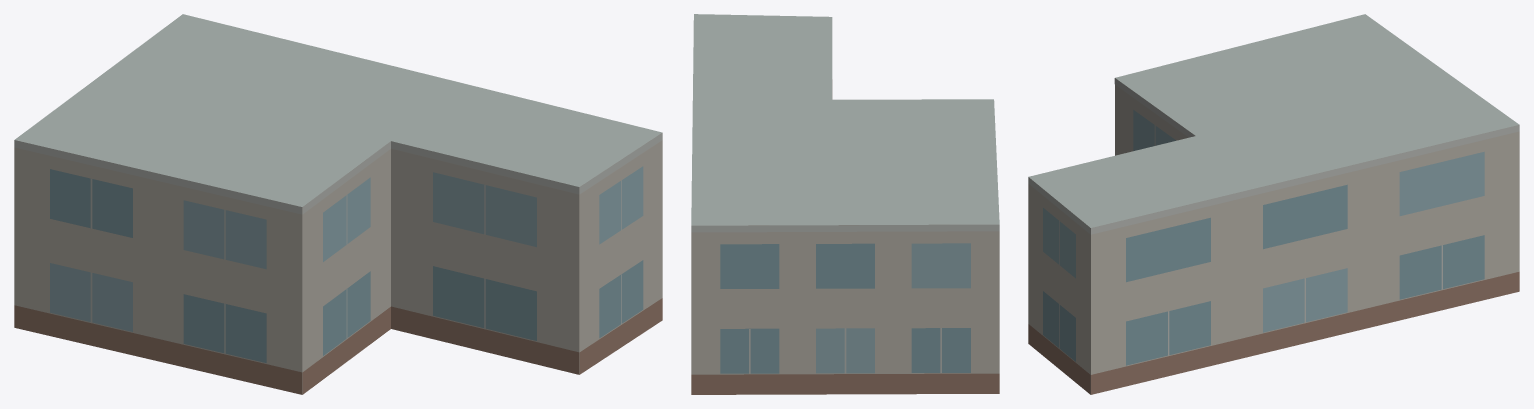
File: survey-upis-32763060.glb
3 views of the same model, side by side, from view 1: azimuth 30°, elevation 25°; view 2: azimuth 150°, elevation 25°; view 3: azimuth 270°, elevation 25° (orthographic). The views are drawn at different scales.
Parts seen in each view (by area): view 1: survey-upis-32763060.tmp; view 2: survey-upis-32763060.tmp; view 3: survey-upis-32763060.tmp.
Part boxes in pixels (x1,y1,x2,y2): survey-upis-32763060.tmp: (14, 14, 662, 394); survey-upis-32763060.tmp: (691, 14, 999, 394); survey-upis-32763060.tmp: (1028, 14, 1519, 394).
Bounding box in the file's own units: 16.8 × 6.1 × 16.29.
